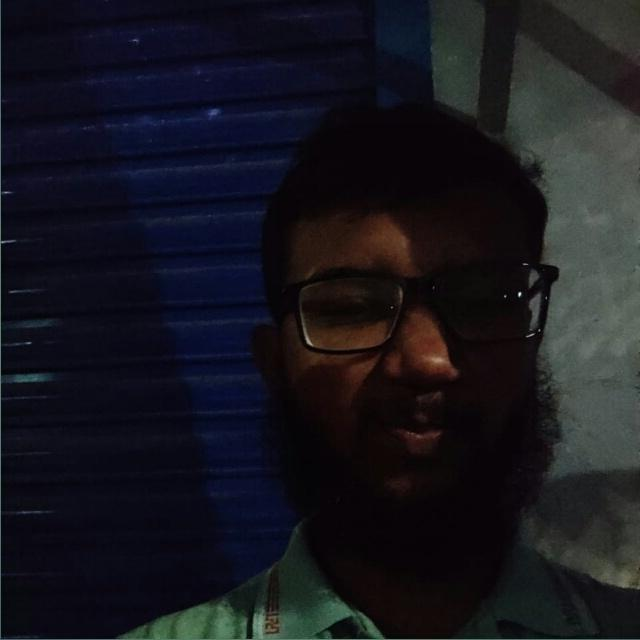Disgust: (222, 142, 596, 576)
